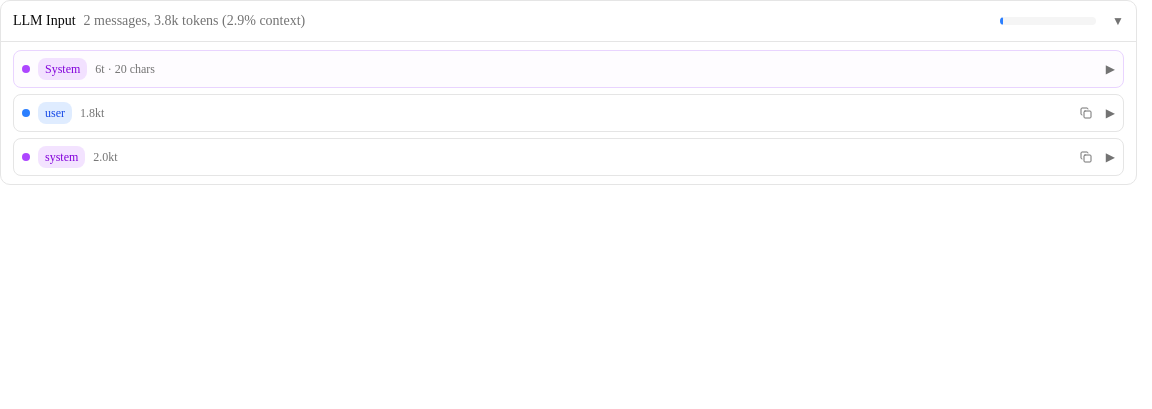
Test: LlmContextView wire-fidelity display › user message renders the reminder as a separate sub-block above the prompt
This screenshot has width=1152, height=409.
What coordinates should you click on to do the following:
click the button "▶" in the row of "1.8k"
I would click on:
 (1110, 113)
Its box is [1106,106,1115,120].
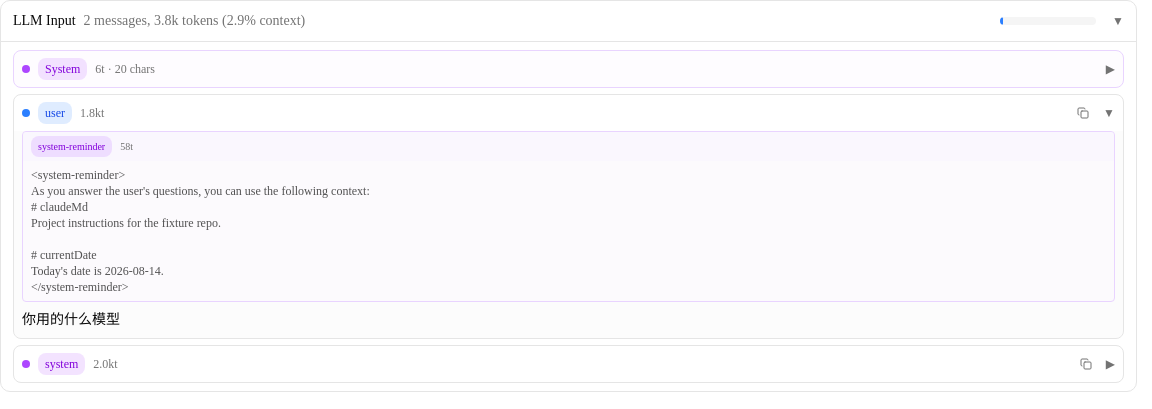
Expected: the text "system-reminder" is shown, [31,136,112,157]
Expected: the element that starts with "system-reminder" is shown, [22,131,1115,302]
